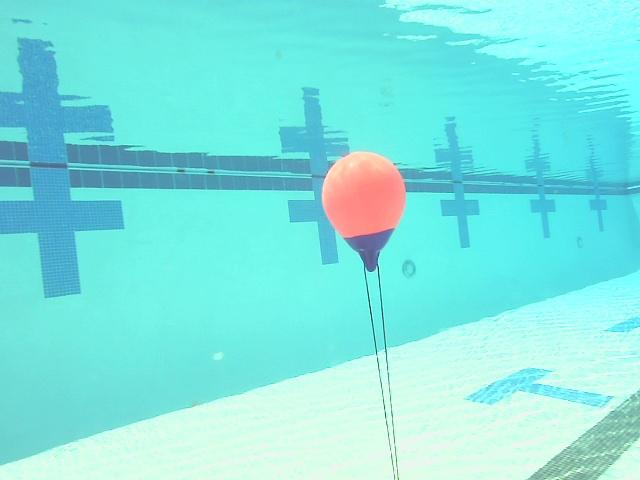buoy: (322, 151, 407, 272)
